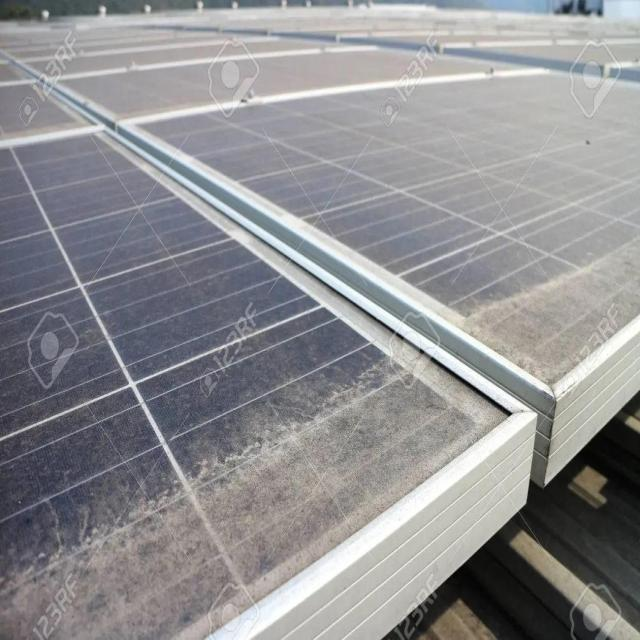soiled: (31, 82, 640, 639)
